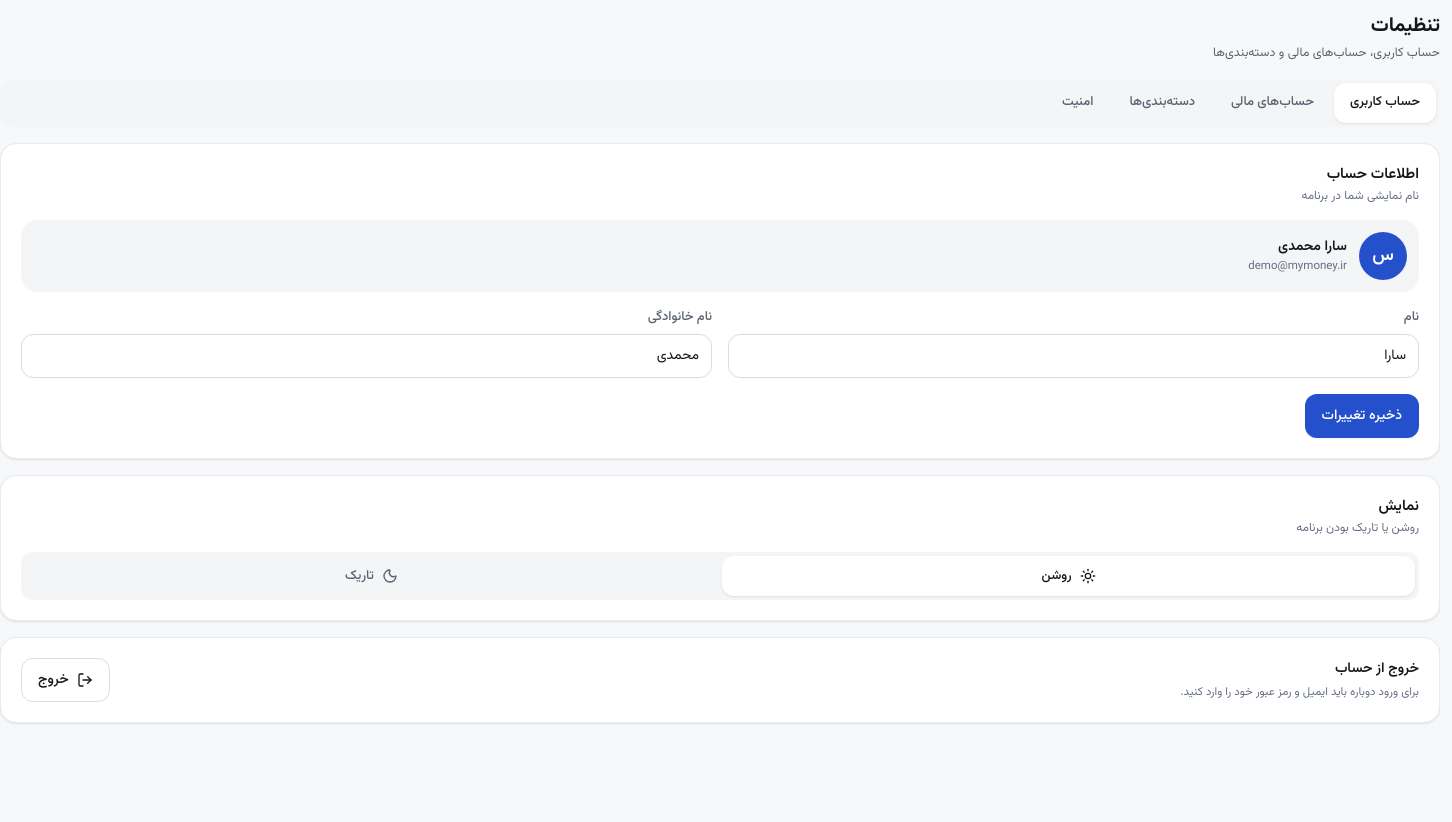
SettingsPage › offers the password change action
This screenshot has width=1452, height=822.
Click the button "امنیت" at (1078, 103), box x1=1046 y1=83 x2=1110 y2=123
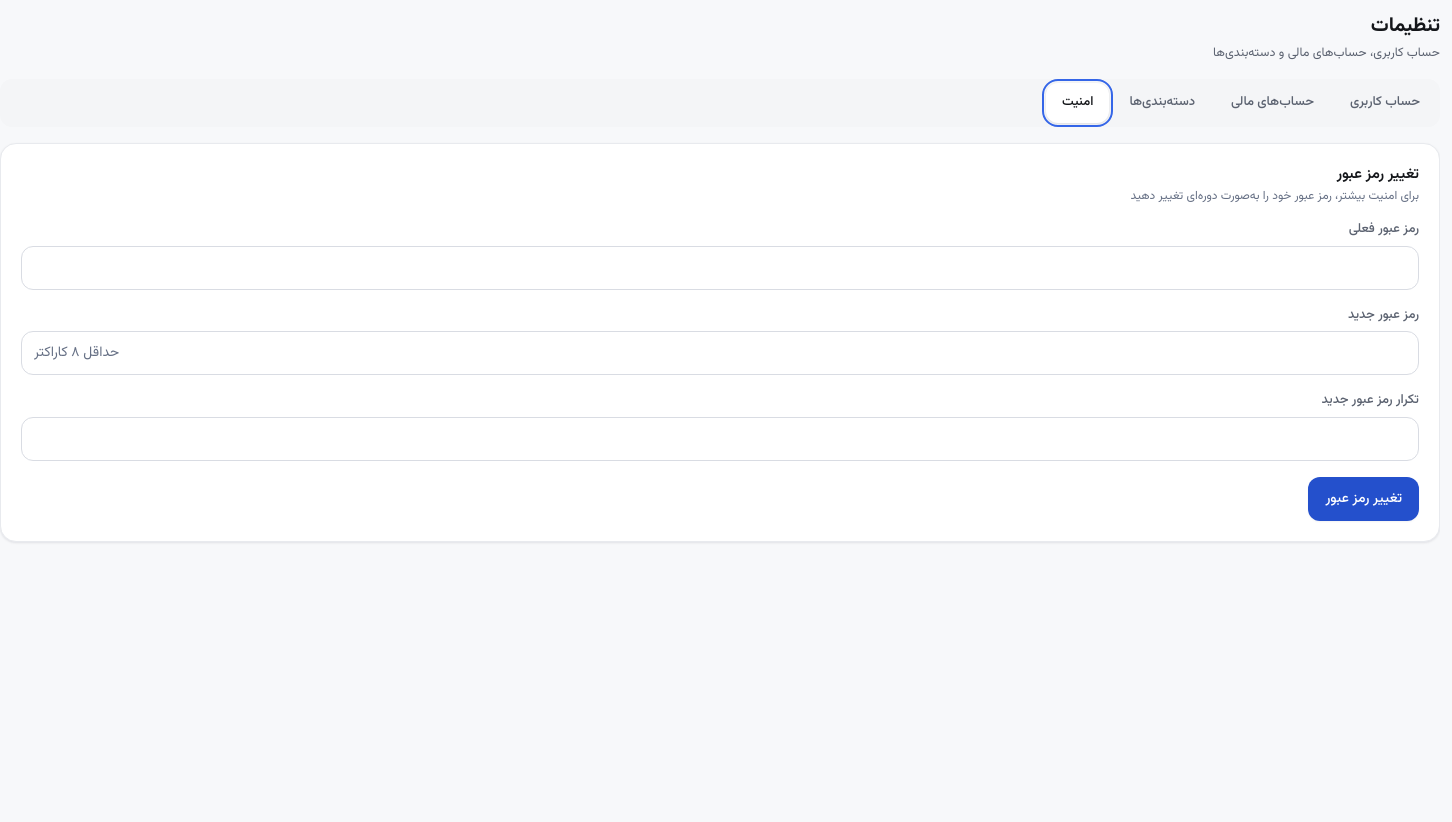
Now the heading "تغییر رمز عبور" is shown, box x1=1337 y1=163 x2=1419 y2=186
Now the button "تغییر رمز عبور" is shown, box x1=1308 y1=477 x2=1419 y2=521
Now the password field labelled "رمز عبور فعلی" is shown, box x1=21 y1=246 x2=1419 y2=290
